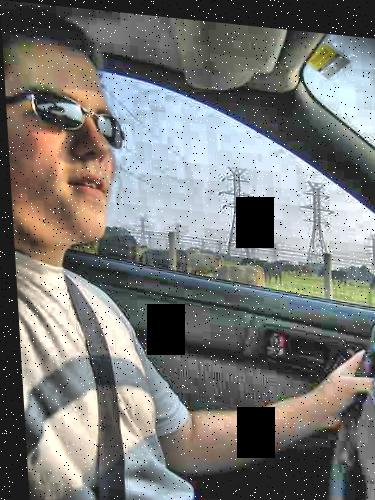seatbelt: (48, 261, 145, 500)
